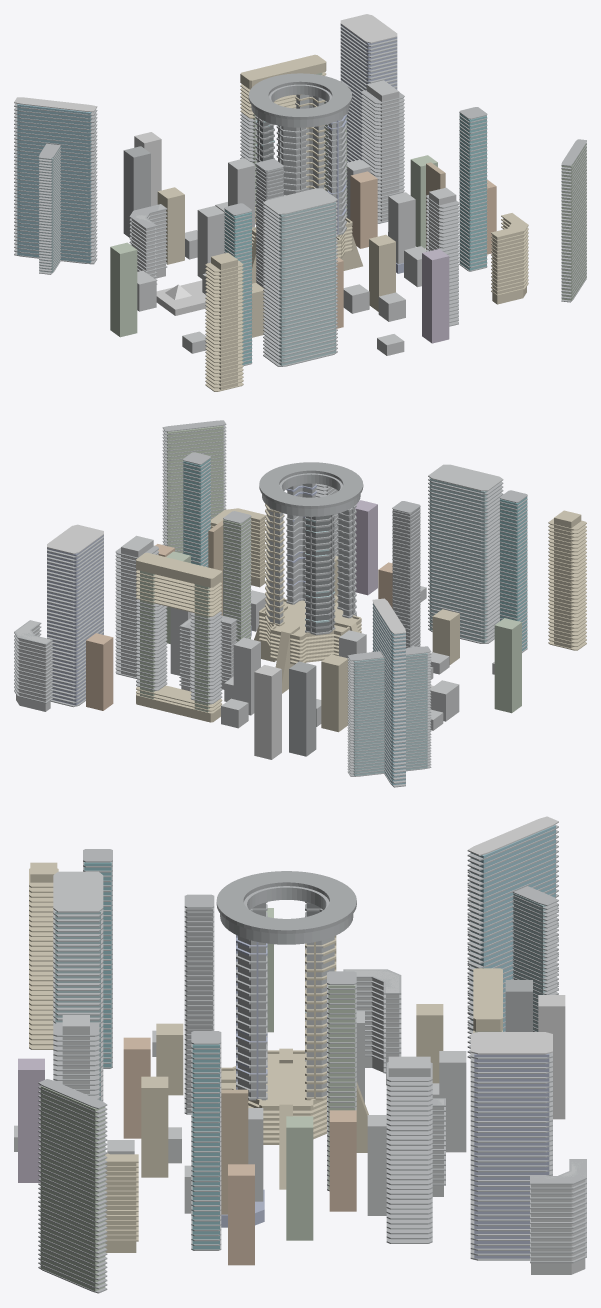
File: city.glb
3 views of the same model, one above another, from view 1: azimuth 30°, elevation 25°; view 2: azimuth 150°, elevation 25°; view 3: azimuth 270°, elevation 25° (orthographic). The views are drawn at different scales.
Parts seen in each view (by area): view 1: Mesh_Mesh_head_geo.001_lambert2SG.001; view 2: Mesh_Mesh_head_geo.001_lambert2SG.001; view 3: Mesh_Mesh_head_geo.001_lambert2SG.001.
Part boxes in pixels (x1,y1,x2,y2): Mesh_Mesh_head_geo.001_lambert2SG.001: (14,14,586,391); Mesh_Mesh_head_geo.001_lambert2SG.001: (14,420,586,787); Mesh_Mesh_head_geo.001_lambert2SG.001: (14,816,586,1293).
Size of the model in its own units: 476 by 203 by 423.
